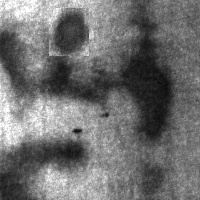patches: (123, 15, 172, 138), (1, 138, 87, 200), (39, 45, 117, 102), (1, 28, 35, 98), (49, 8, 89, 56)
